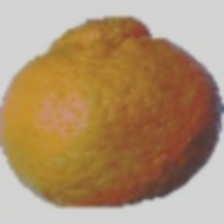tangerine: (37, 3, 194, 198)
